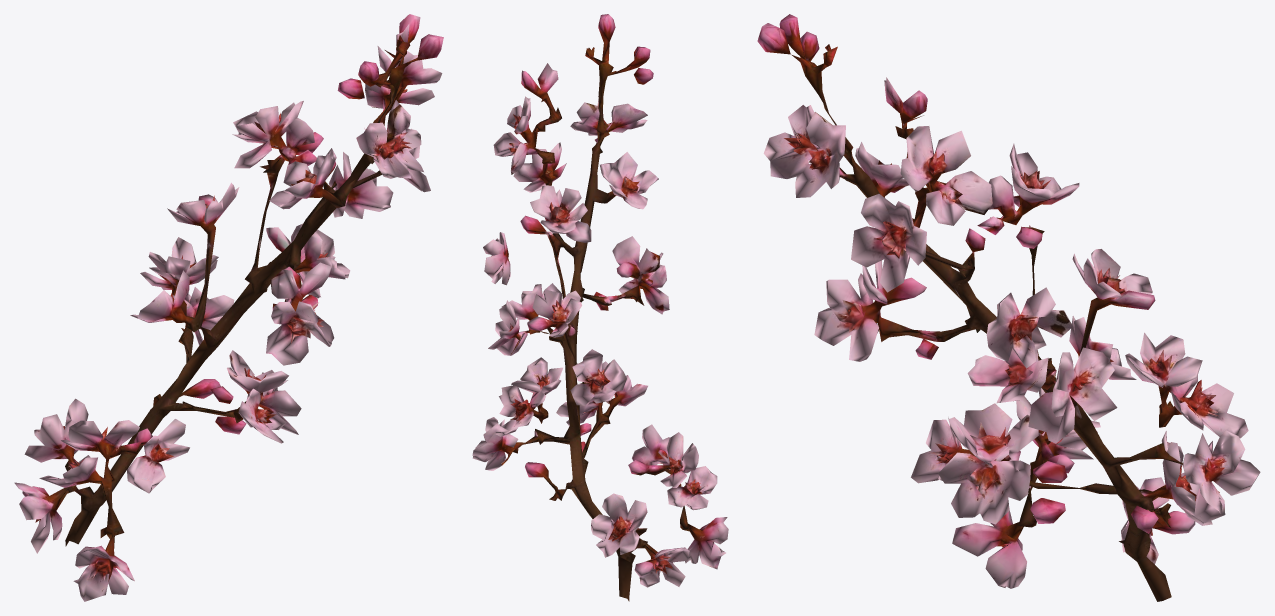
Rendered from CherryBlossom.glb.
3 renders of one model, left to right at view 1: azimuth 30°, elevation 25°; view 2: azimuth 150°, elevation 25°; view 3: azimuth 270°, elevation 25°, orthographic. The views are drawn at different scales.
Visible parts, largest first — view 1: tripo_node_47e147fc-9c0d-44b8-9bc2-7f8522bde2a9; view 2: tripo_node_47e147fc-9c0d-44b8-9bc2-7f8522bde2a9; view 3: tripo_node_47e147fc-9c0d-44b8-9bc2-7f8522bde2a9.
Boxes of the visible parts, x1,y1,x2,y2 form: tripo_node_47e147fc-9c0d-44b8-9bc2-7f8522bde2a9: (14, 14, 443, 601); tripo_node_47e147fc-9c0d-44b8-9bc2-7f8522bde2a9: (472, 14, 728, 601); tripo_node_47e147fc-9c0d-44b8-9bc2-7f8522bde2a9: (757, 14, 1260, 601).
Size of the model in its own units: 0.5263 by 0.8782 by 0.5827.
Materials: 1 (1 with a texture image).
